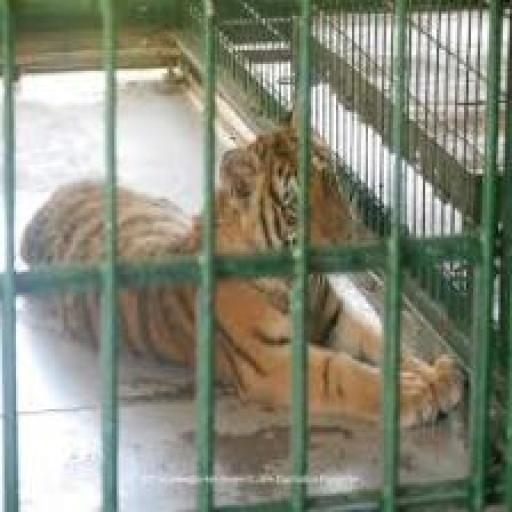Tiger: (18, 119, 468, 420)
